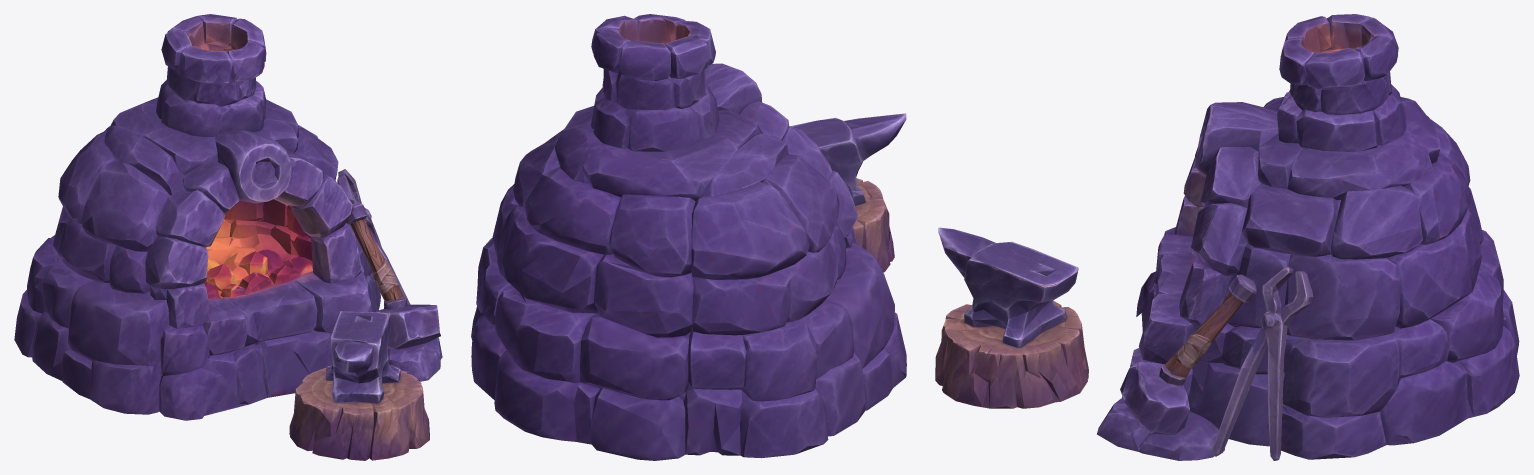
The model's file is forgia.glb.
The picture shows the model from 3 angles, left to right: view 1: azimuth 30°, elevation 25°; view 2: azimuth 150°, elevation 25°; view 3: azimuth 270°, elevation 25°; orthographic projection. The views are drawn at different scales.
Size of the model in its own units: 1.42 by 1.23 by 1.9.
Materials: 1 (1 with a texture image).
